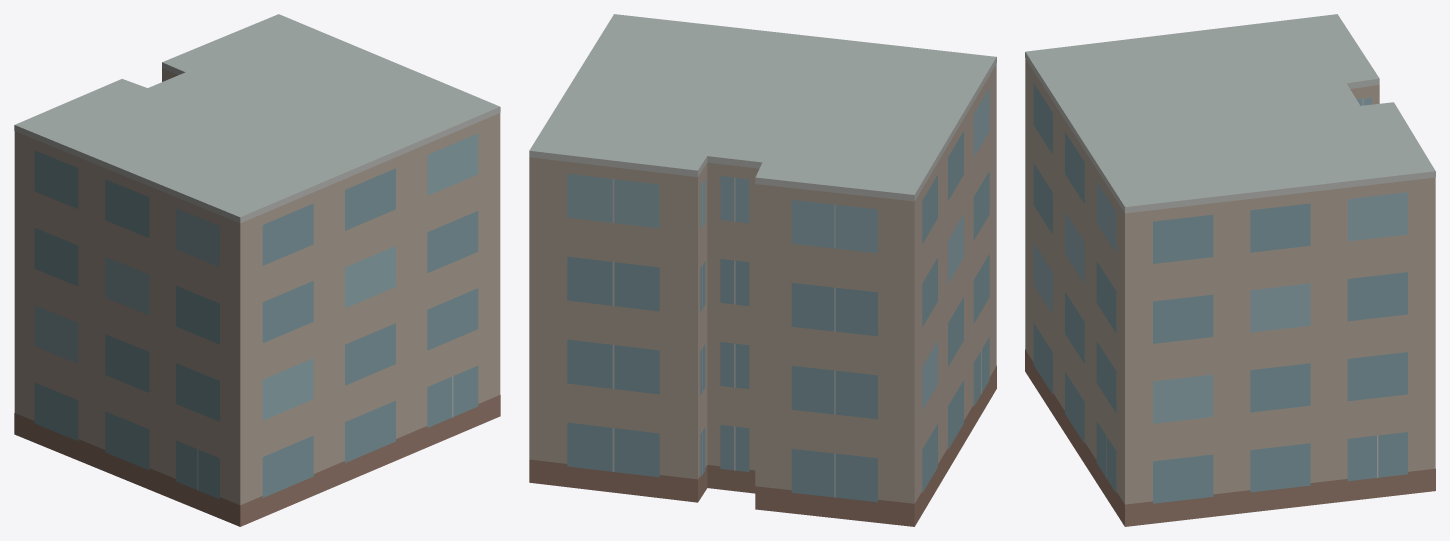
The model's file is survey-upis-32704964.glb.
3 views of the same model, side by side, from view 1: azimuth 30°, elevation 25°; view 2: azimuth 150°, elevation 25°; view 3: azimuth 270°, elevation 25° (orthographic). The views are drawn at different scales.
Visible parts, largest first — view 1: survey-upis-32704964.tmp; view 2: survey-upis-32704964.tmp; view 3: survey-upis-32704964.tmp.
Part boxes in pixels (bbox=[...]): survey-upis-32704964.tmp: bbox=[14, 14, 500, 526]; survey-upis-32704964.tmp: bbox=[529, 14, 996, 526]; survey-upis-32704964.tmp: bbox=[1025, 14, 1435, 526].
Bounding box in the file's own units: 16.2 × 12.5 × 14.56.
